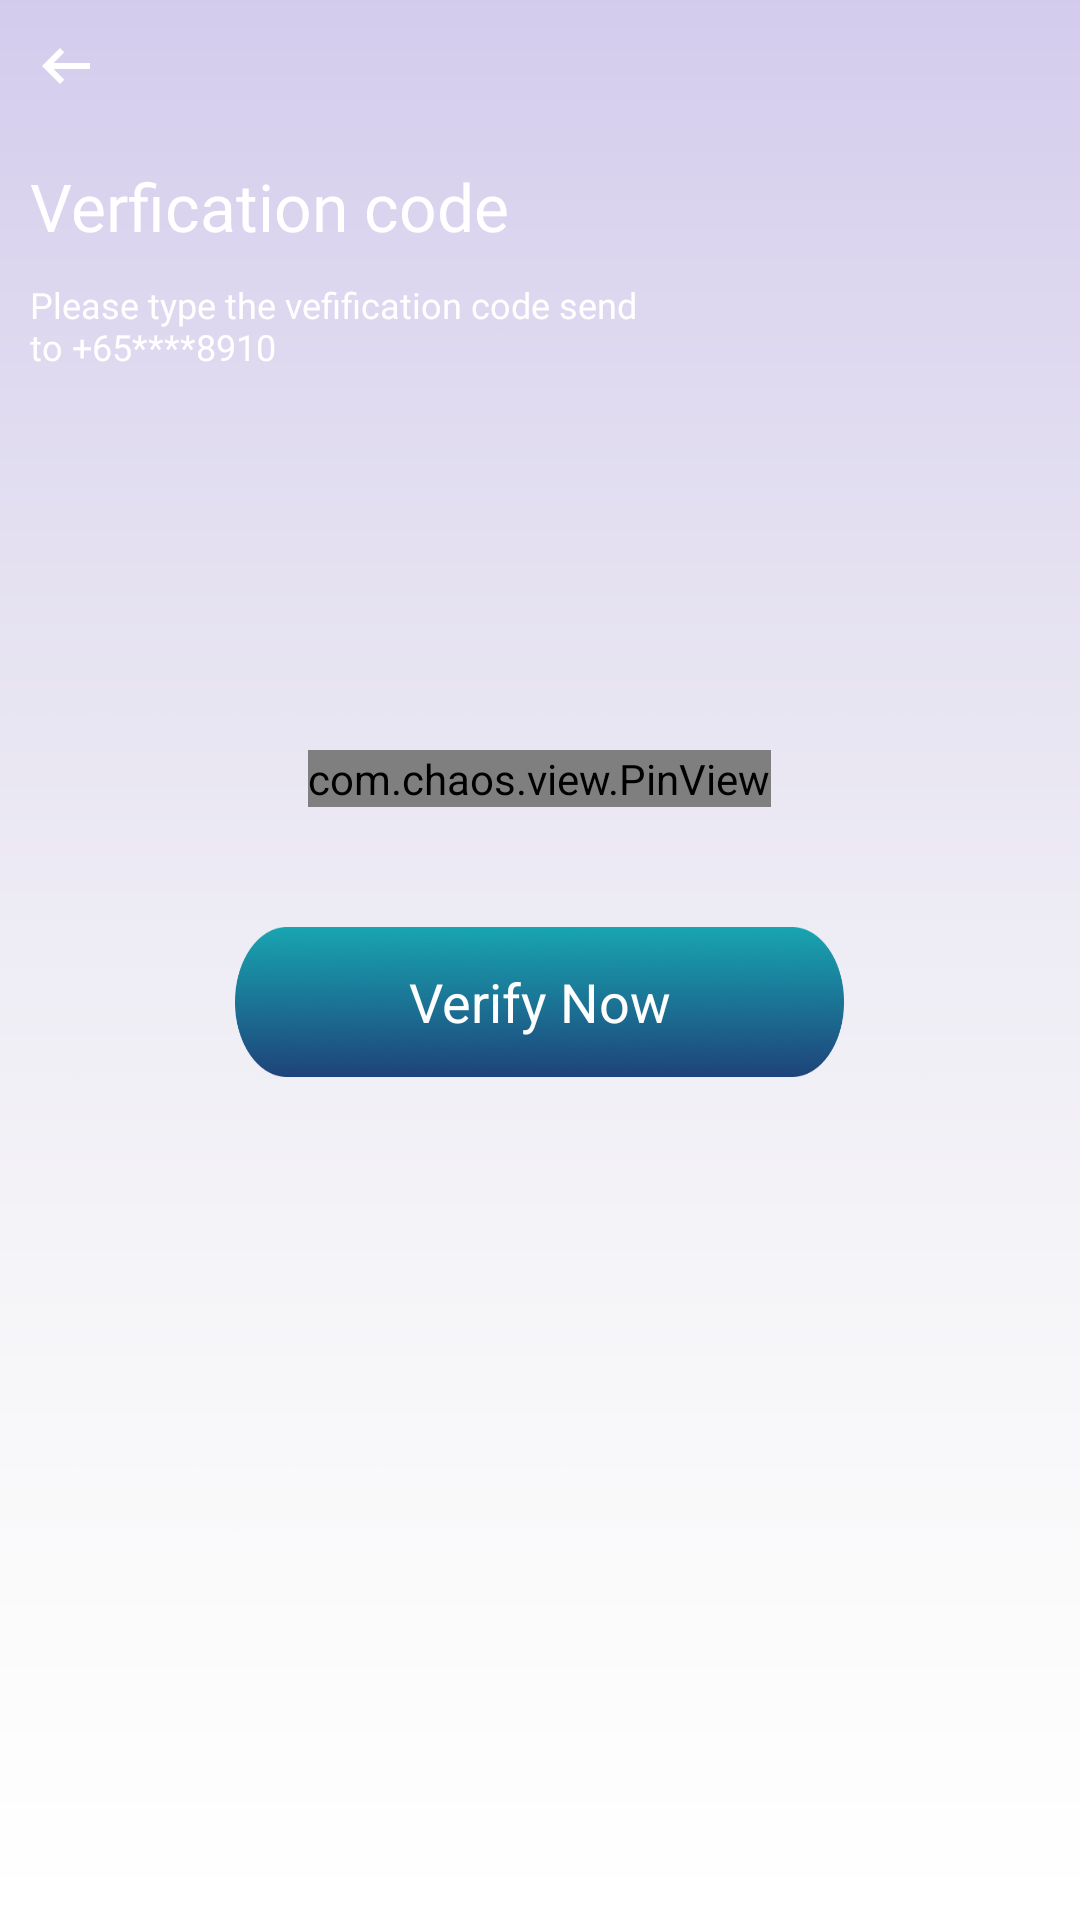

Screen size 1080 x 1920. Icon name, then its box in pixels as box(x1, y1, x2, y2):
back arrow: box(42, 48, 90, 84)
